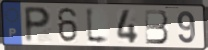4: (115, 9, 140, 45)
6: (56, 7, 79, 44)
9: (176, 11, 197, 45)
B: (143, 9, 170, 46)
L: (85, 5, 111, 46)
P: (23, 5, 53, 44)
